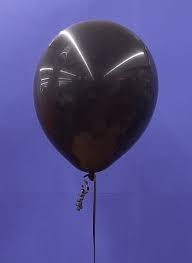Balloon: (32, 21, 159, 173)
